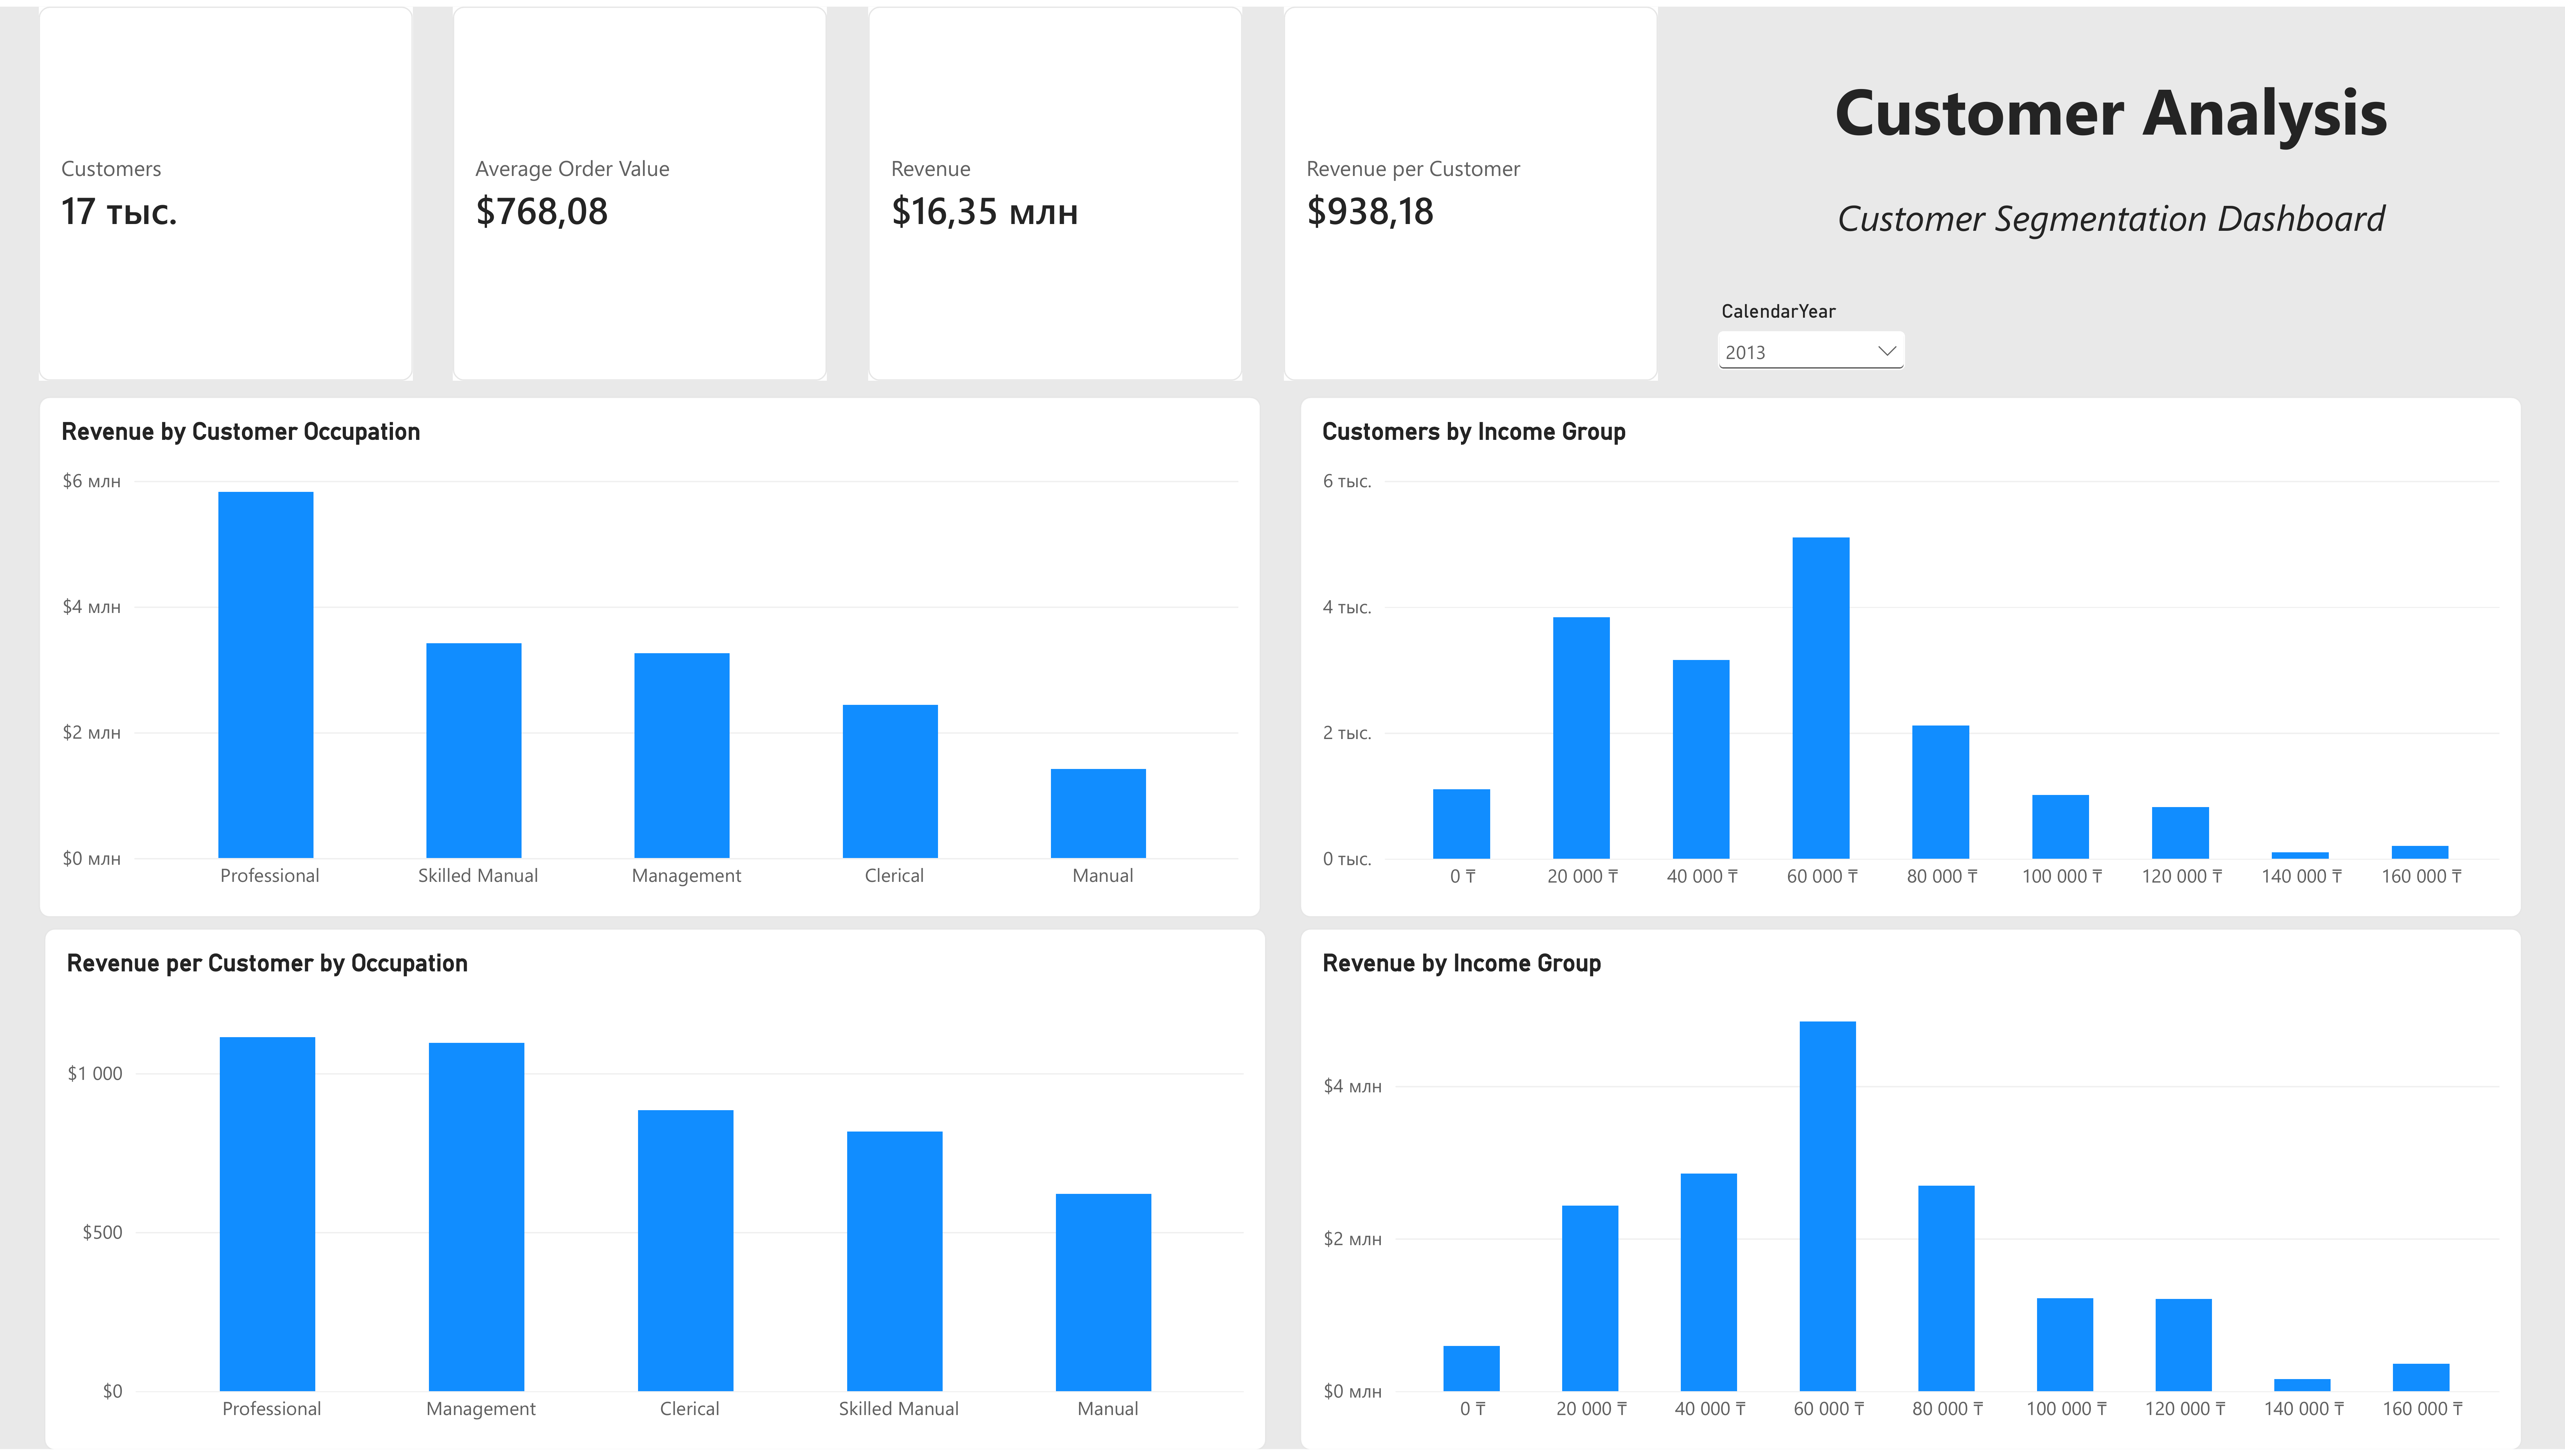

The dashboard page shown, as its layout file describes it:
{"tool":"powerbi","page":{"name":"Customer Analysis","canvas":[1920,1080],"ordinal":2},"visuals":[{"type":"cardVisual","fields":{"Data":["FactInternetSales.Customers"]},"box":[28.8,0,280,280],"z":0},{"type":"cardVisual","fields":{"Data":["FactInternetSales.Revenue"]},"box":[650.1,0,280,280],"z":1000},{"type":"cardVisual","fields":{"Data":["FactInternetSales.Revenue per Customer"]},"box":[960.8,0,280,280],"z":2000},{"type":"cardVisual","fields":{"Data":["FactInternetSales.Average Order Value"]},"box":[339.4,0,280,280],"z":3000},{"type":"columnChart","title":"Revenue by Customer Occupation","fields":{"Category":["DimCustomer.EnglishOccupation"],"Y":["FactInternetSales.Revenue"]},"box":[28.8,292.5,915,390],"z":4000},{"type":"columnChart","title":"Revenue per Customer by Occupation","fields":{"Category":["DimCustomer.EnglishOccupation"],"Y":["FactInternetSales.Revenue per Customer"]},"box":[33.3,689.5,915.3,391],"z":5000},{"type":"columnChart","title":"Customers by Income Group","fields":{"Category":["DimCustomer.YearlyIncome (ячейки)"],"Y":["FactInternetSales.Customers"]},"box":[972.9,292.5,915,390.3],"z":6000},{"type":"columnChart","title":"Revenue by Income Group","fields":{"Category":["DimCustomer.YearlyIncome (ячейки)"],"Y":["FactInternetSales.Revenue"]},"box":[972.9,689.5,915.3,391],"z":7000},{"type":"slicer","fields":{"Values":["DimDate.CalendarYear"]},"box":[1280.5,219.7,150,60],"z":8000},{"type":"textbox","box":[1241.1,43.9,678.9,75.8],"z":9000},{"type":"textbox","box":[1241.1,139.4,678.9,54.6],"z":10000}]}

Visuals, with their boxes in screenshot pixels (x1, y1, x2, y2), scaled from the page's 1920x1080 canvas onto the 2565x1456 screenshot:
cardVisual - FactInternetSales.Customers: select_region(38, 0, 413, 378)
cardVisual - FactInternetSales.Revenue: select_region(869, 0, 1243, 378)
cardVisual - FactInternetSales.Revenue per Customer: select_region(1284, 0, 1658, 378)
cardVisual - FactInternetSales.Average Order Value: select_region(454, 0, 828, 378)
"Revenue by Customer Occupation" columnChart: select_region(38, 394, 1261, 920)
"Revenue per Customer by Occupation" columnChart: select_region(45, 930, 1267, 1456)
"Customers by Income Group" columnChart: select_region(1300, 394, 2522, 921)
"Revenue by Income Group" columnChart: select_region(1300, 930, 2523, 1456)
slicer - DimDate.CalendarYear: select_region(1711, 296, 1911, 377)
textbox: select_region(1658, 59, 2565, 161)
textbox: select_region(1658, 188, 2565, 261)
